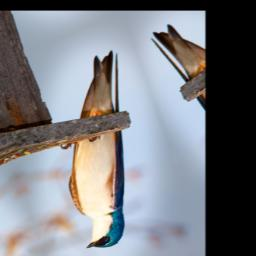Swallow: (26, 46, 178, 256)
